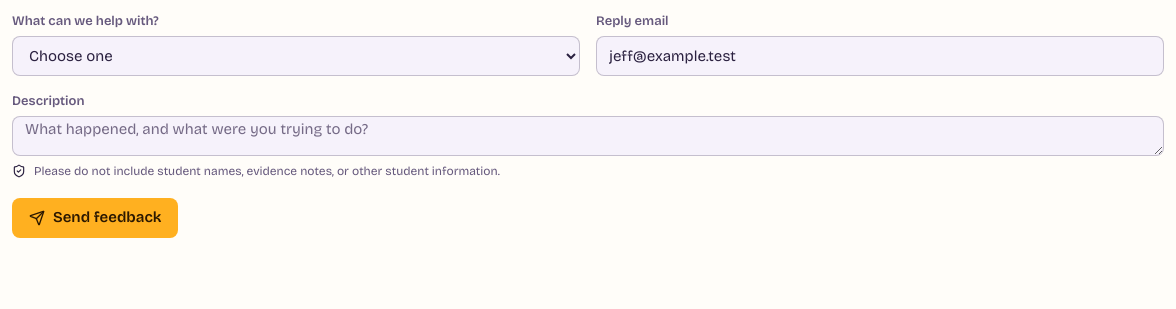
Test: HelpFeedbackForm › preserves the form when the action request rejects
The width and height of the screenshot is (1176, 309).
Select "Account or data request" in the dropdown labelled "What can we help with?": (296, 56) [12, 36, 580, 76]
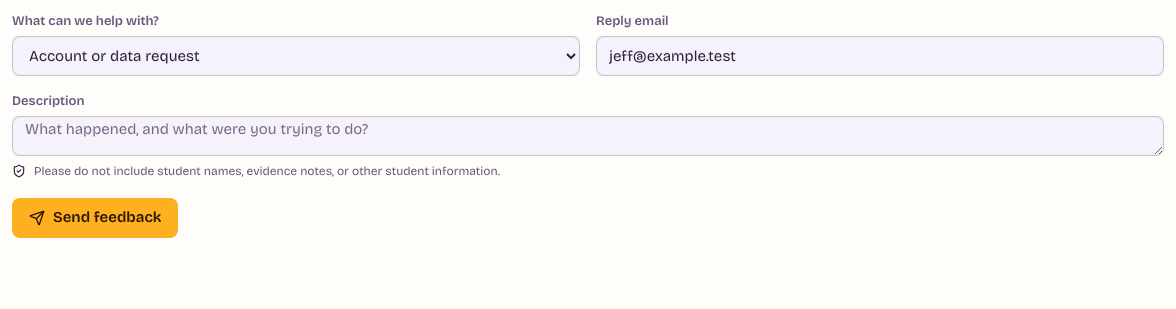
In the text box labelled "Description": (588, 136) [12, 116, 1164, 156], type "I need help with my account."
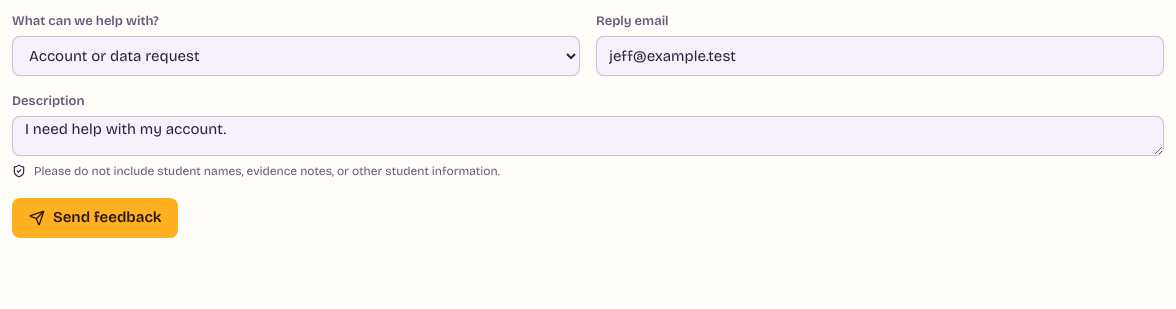
Click the button "Send feedback": click(95, 218) [12, 198, 178, 238]
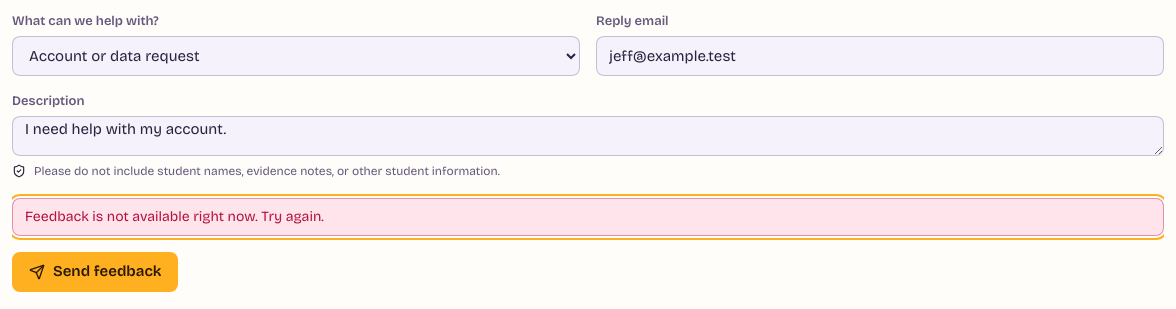
Expected: the message reads "Feedback is not available right now. Try again.", [25, 208, 324, 224]
